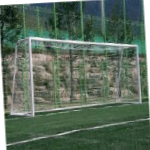goals: (8, 36, 144, 118)
